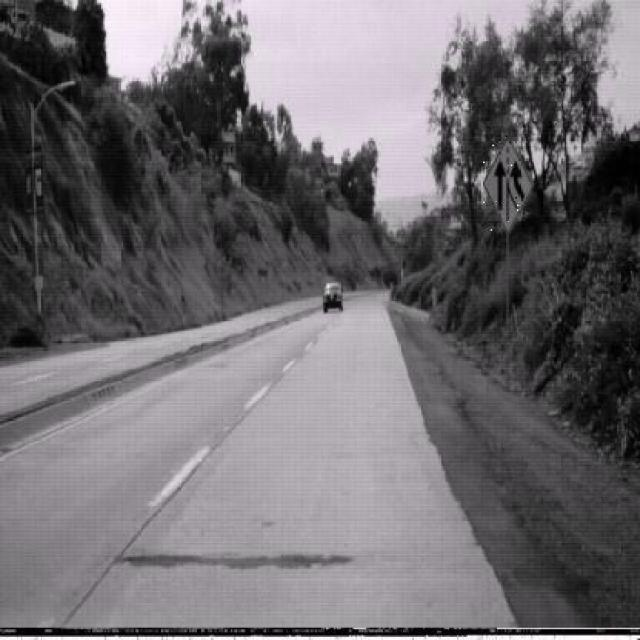addedLane: (482, 134, 534, 233)
